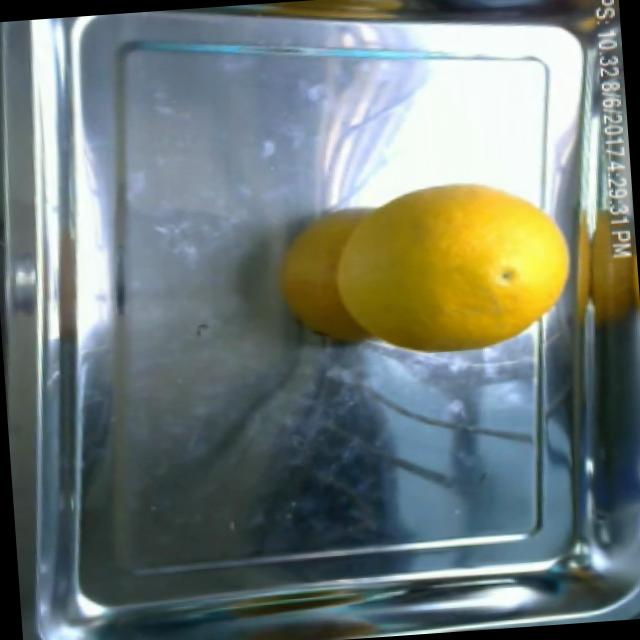Fruit: (253, 182, 454, 368)
